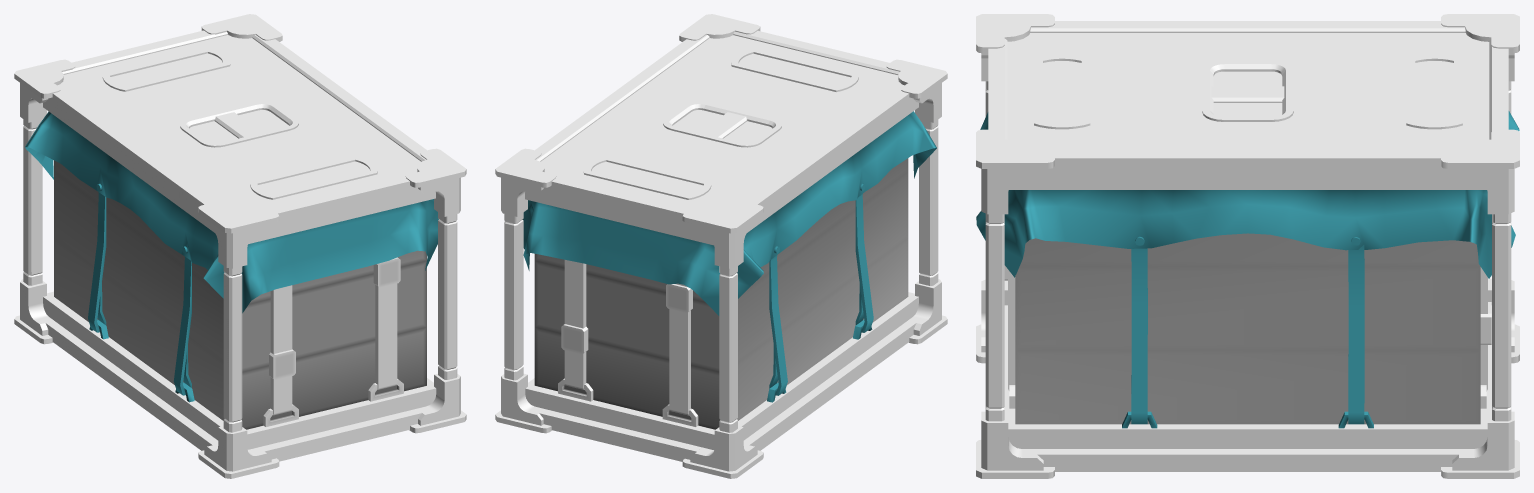
Rendered from env_undergroundstation_packages04.fbx.
The picture shows the model from 3 angles, left to right: view 1: azimuth 30°, elevation 25°; view 2: azimuth 150°, elevation 25°; view 3: azimuth 270°, elevation 25°; orthographic projection. The views are drawn at different scales.
Parts seen in each view (by area): view 1: bigbox.001, env_undergroundstation_packages01.004; view 2: bigbox.001, env_undergroundstation_packages01.004; view 3: bigbox.001, env_undergroundstation_packages01.004.
Boxes of the visible parts, x1=… form: bigbox.001: x1=14, y1=14, x2=466, y2=478; env_undergroundstation_packages01.004: x1=25, y1=111, x2=438, y2=402; bigbox.001: x1=495, y1=14, x2=947, y2=478; env_undergroundstation_packages01.004: x1=522, y1=111, x2=936, y2=402; bigbox.001: x1=976, y1=14, x2=1519, y2=478; env_undergroundstation_packages01.004: x1=976, y1=111, x2=1519, y2=428.
Size of the model in its own units: 42.06 by 39.09 by 60.94.
